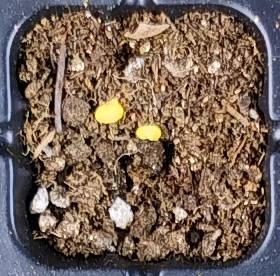pepper seed: (54, 53, 216, 195), (29, 36, 155, 160)
